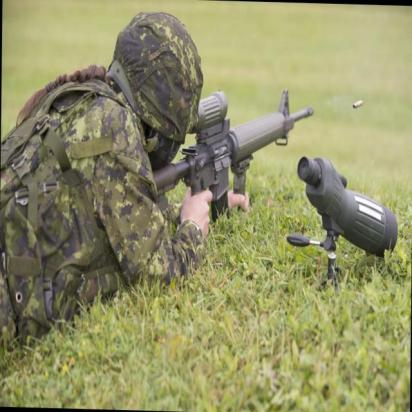Gun: (146, 88, 315, 218)
